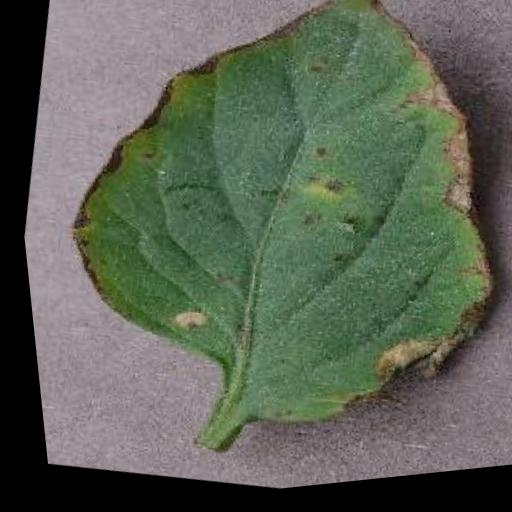Bacterial Spot: (2, 0, 512, 492)
